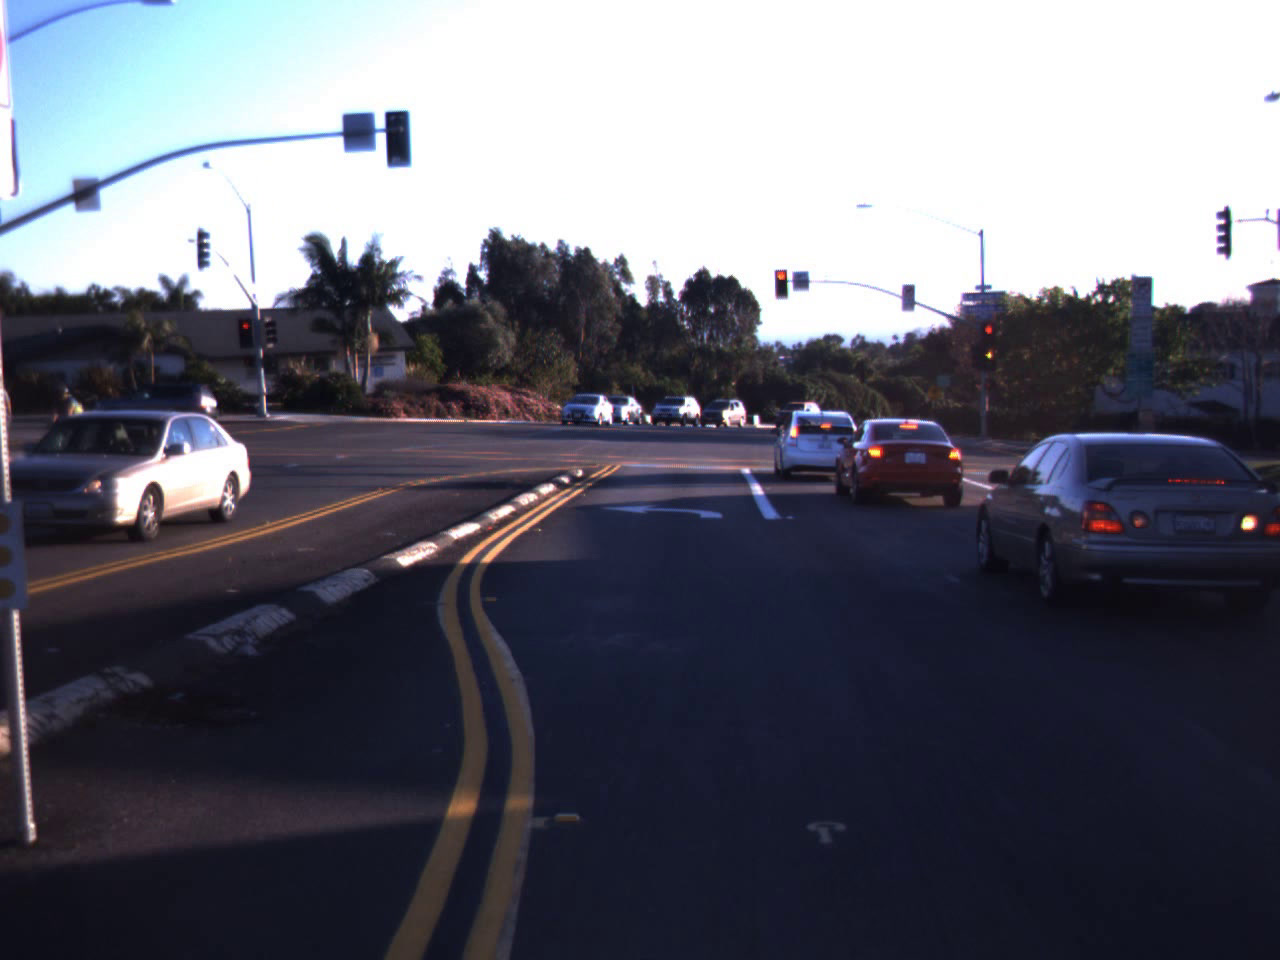stop: (771, 268, 792, 304), (980, 325, 998, 347), (240, 322, 252, 340)
